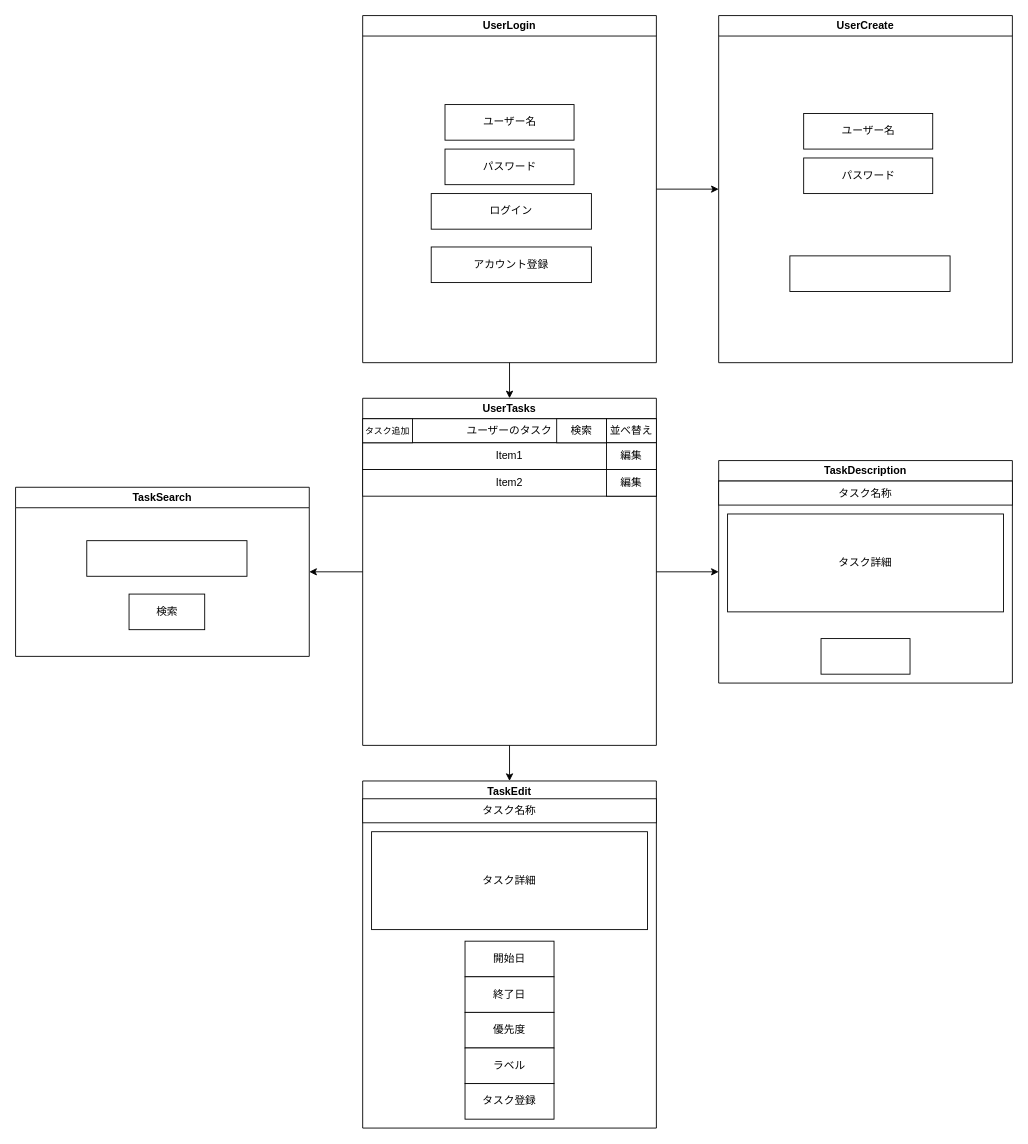
The diagram is 1028 pixels wide and 1144 high, and some of its shapes have lost their labels. Each missing label, with the centre of its shape:
アカウント作成: (869,273)
タスク完了: (865,656)
検索文字列: (166,558)
